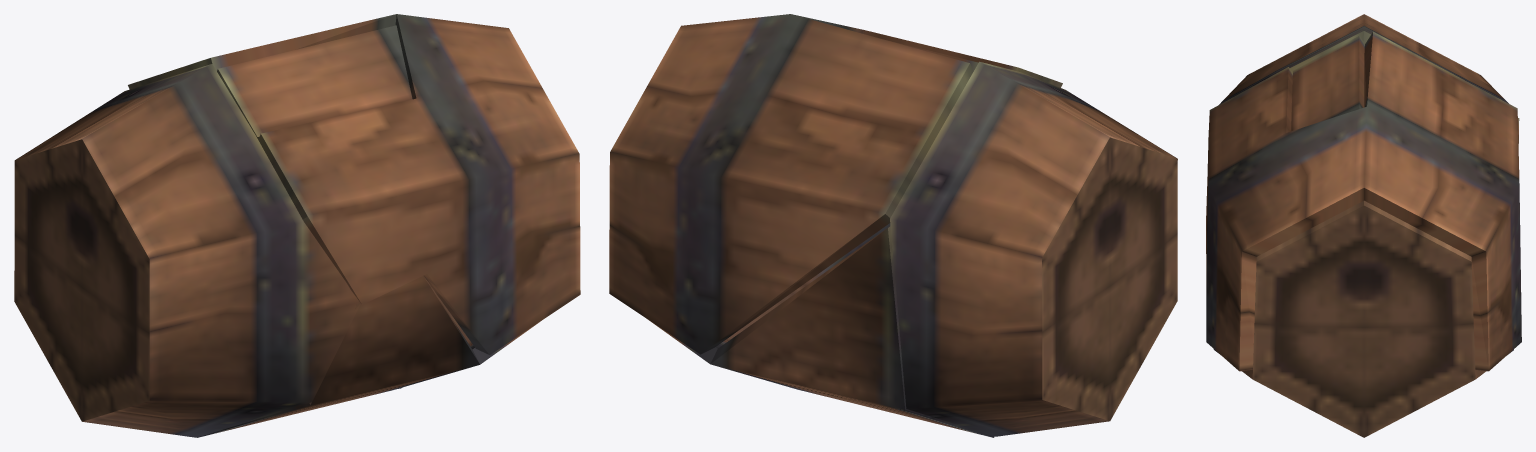
File: mutong02@idle.FBX
The picture shows the model from 3 angles, left to right: view 1: azimuth 30°, elevation 25°; view 2: azimuth 150°, elevation 25°; view 3: azimuth 270°, elevation 25°; orthographic projection. The views are drawn at different scales.
Parts seen in each view (by area): view 1: 对象003, 对象001, 对象002, common_city_mutong02_po; view 2: 对象003, 对象001, common_city_mutong02_po; view 3: 对象001, common_city_mutong02_po, 对象002, 对象003.
Boxes of the visible parts, left/top/right/bottom form: 对象003: left=14, top=64, right=360, bottom=437; 对象001: left=128, top=14, right=580, bottom=354; 对象002: left=217, top=25, right=412, bottom=139; common_city_mutong02_po: left=197, top=276, right=539, bottom=437; 对象003: left=890, top=61, right=1177, bottom=436; 对象001: left=609, top=14, right=1062, bottom=354; common_city_mutong02_po: left=649, top=223, right=994, bottom=437; 对象001: left=1206, top=31, right=1521, bottom=371; common_city_mutong02_po: left=1213, top=118, right=1519, bottom=437; 对象002: left=1290, top=35, right=1364, bottom=131; 对象003: left=1219, top=14, right=1508, bottom=104.
Bounding box in the file's own units: 1.17 × 0.9689 × 0.8599.
